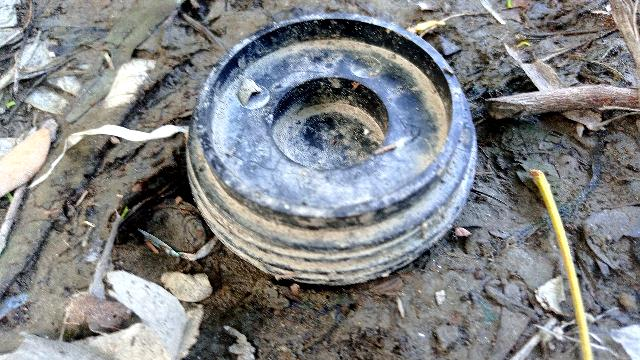hardplastic: (185, 4, 495, 297)
